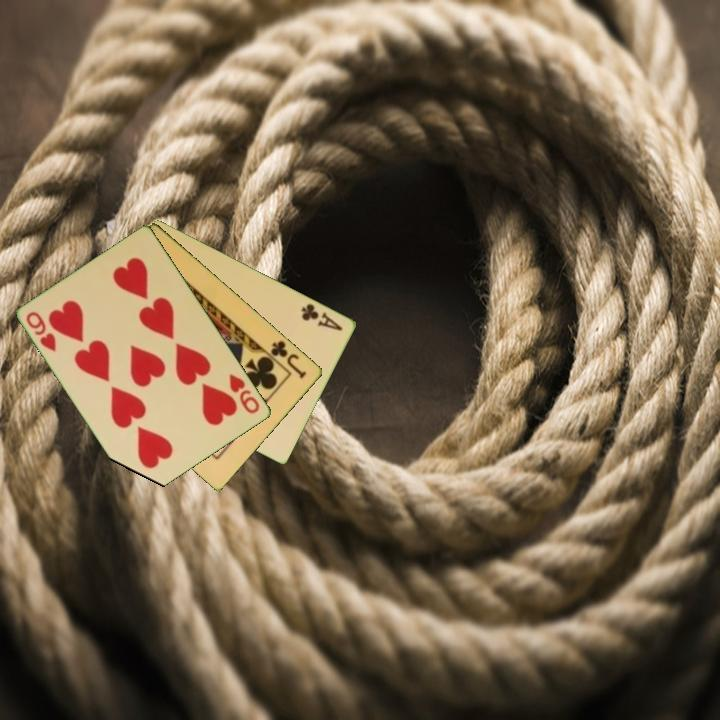9h: (226, 370, 263, 417), (23, 308, 60, 355)
Ac: (298, 300, 346, 333)
Jc: (267, 337, 310, 381)
